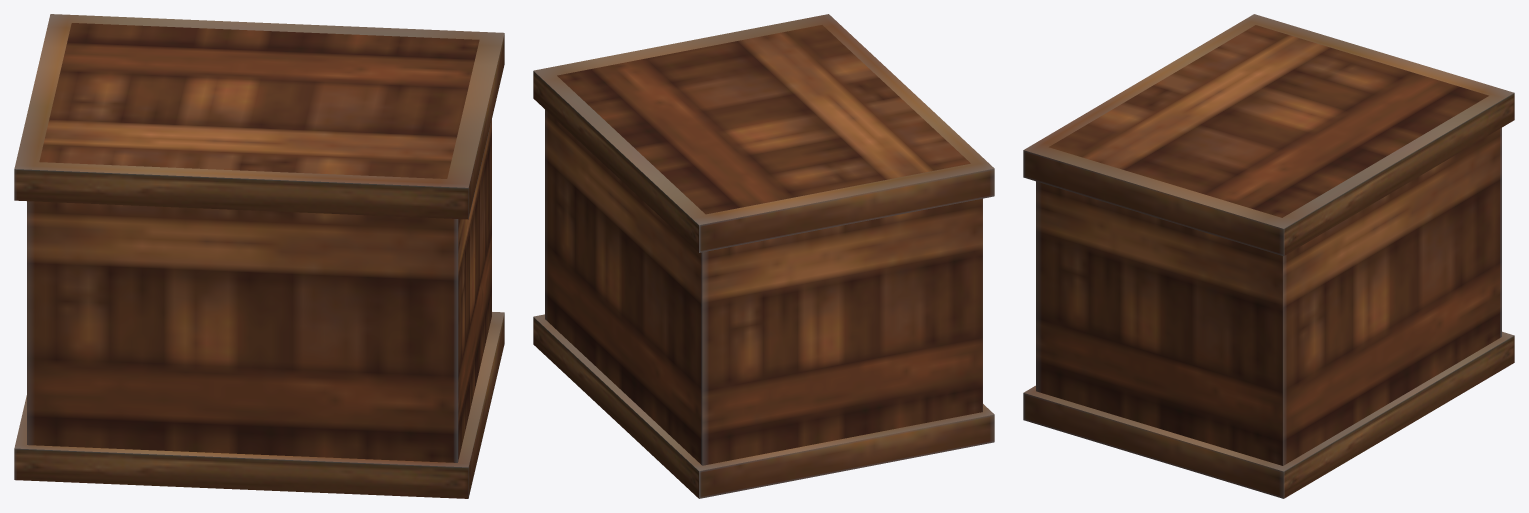
The model's file is SN_bfzt01_qiangbi_muxiangA.FBX.
The picture shows the model from 3 angles, left to right: view 1: azimuth 30°, elevation 25°; view 2: azimuth 150°, elevation 25°; view 3: azimuth 270°, elevation 25°; orthographic projection. The views are drawn at different scales.
Visible parts, largest first — view 1: SN_bfzt01_qiangbi_muxiangA; view 2: SN_bfzt01_qiangbi_muxiangA; view 3: SN_bfzt01_qiangbi_muxiangA.
Boxes of the visible parts, x1,y1,x2,y2 form: SN_bfzt01_qiangbi_muxiangA: (14,14,504,498); SN_bfzt01_qiangbi_muxiangA: (533,14,994,498); SN_bfzt01_qiangbi_muxiangA: (1023,14,1514,498).
Size of the model in its own units: 190 by 183 by 111.
